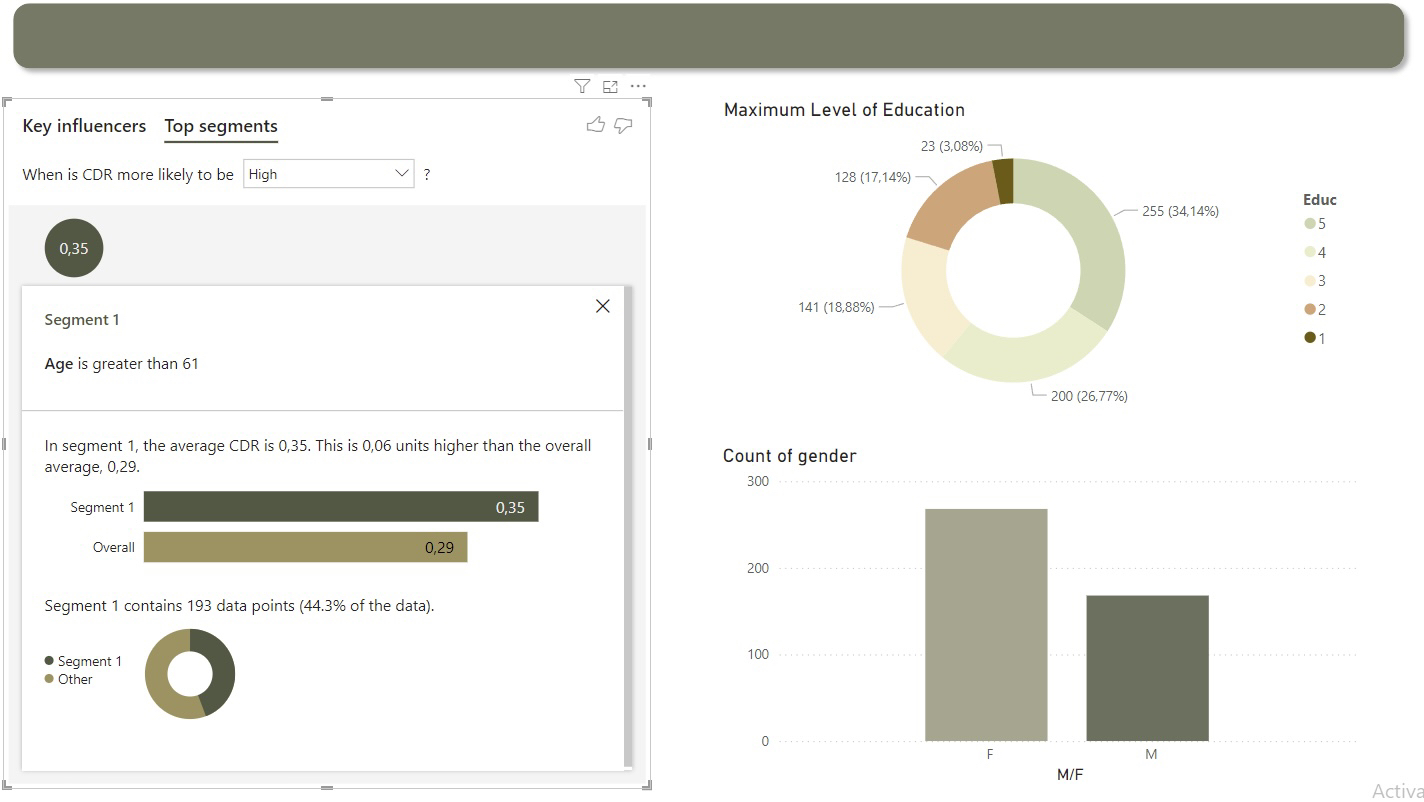

This screenshot's page, from the dashboard's own definition file:
{"tool":"powerbi","page":{"name":"Page 2","canvas":[1280,720],"ordinal":1},"visuals":[{"type":"keyDriversVisual","fields":{"Target":["oasis_cross-sectional.CDR"],"ExplainBy":["oasis_cross-sectional.Age"]},"box":[20.4,93.4,574.8,612.8],"z":0},{"type":"donutChart","title":"Maximum Level of Education","fields":{"Category":["oasis_cross-sectional.Educ"],"Y":["Sum(oasis_cross-sectional.Educ)"]},"box":[654.6,93.4,574.8,286.9],"z":1},{"type":"columnChart","title":"Count of gender","fields":{"Category":["oasis_cross-sectional.M/F"],"Y":["CountNonNull(oasis_cross-sectional.M/F)"]},"box":[653.6,399.8,575.8,306.4],"z":2},{"type":"shape","box":[20.4,0,1251.8,75.9],"z":3}]}

Visuals, with their boxes on the page's 1280x720 design canvas (x1, y1, x2, y2). These are canvas units, not pixel positions in the 1424x802 screenshot, which may show the page scaled, cropped or inside an application window:
keyDriversVisual - oasis_cross-sectional.CDR x oasis_cross-sectional.Age: bbox=[20, 93, 595, 706]
"Maximum Level of Education" donutChart: bbox=[655, 93, 1229, 380]
"Count of gender" columnChart: bbox=[654, 400, 1229, 706]
shape: bbox=[20, 0, 1272, 76]
